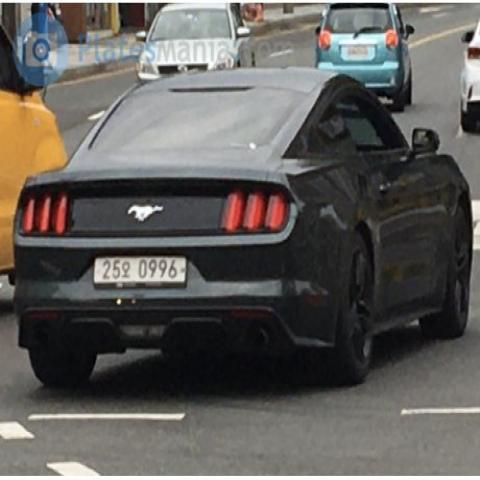LP: (92, 248, 190, 292)
